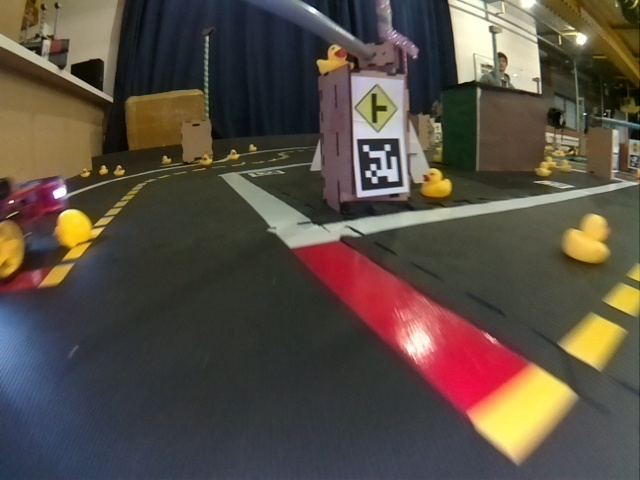Duckie: (564, 215, 610, 264), (55, 210, 93, 246), (316, 46, 350, 71), (423, 170, 451, 197), (536, 163, 549, 175), (201, 155, 212, 165), (114, 166, 125, 176), (99, 165, 109, 175), (161, 156, 171, 165), (561, 161, 570, 171), (80, 169, 90, 178), (228, 151, 238, 159), (249, 144, 257, 153)
Intersection sign: (354, 76, 402, 132)
QR code: (358, 138, 407, 193), (536, 180, 574, 189), (248, 168, 284, 177)
